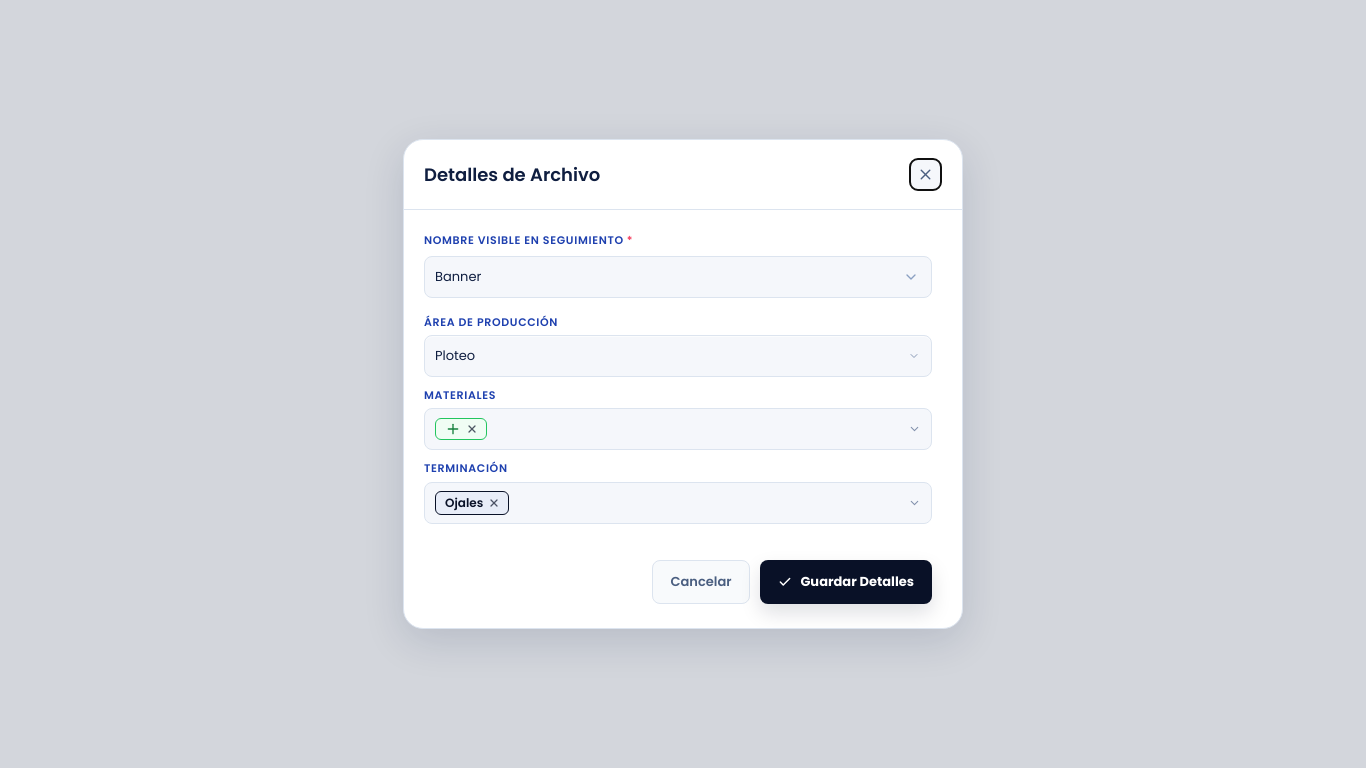
Test case: ProductionFileDetailsModal › rejects material entries that contain only whitespace
Click the button "Guardar Detalles": (846, 582) [760,560,932,604]
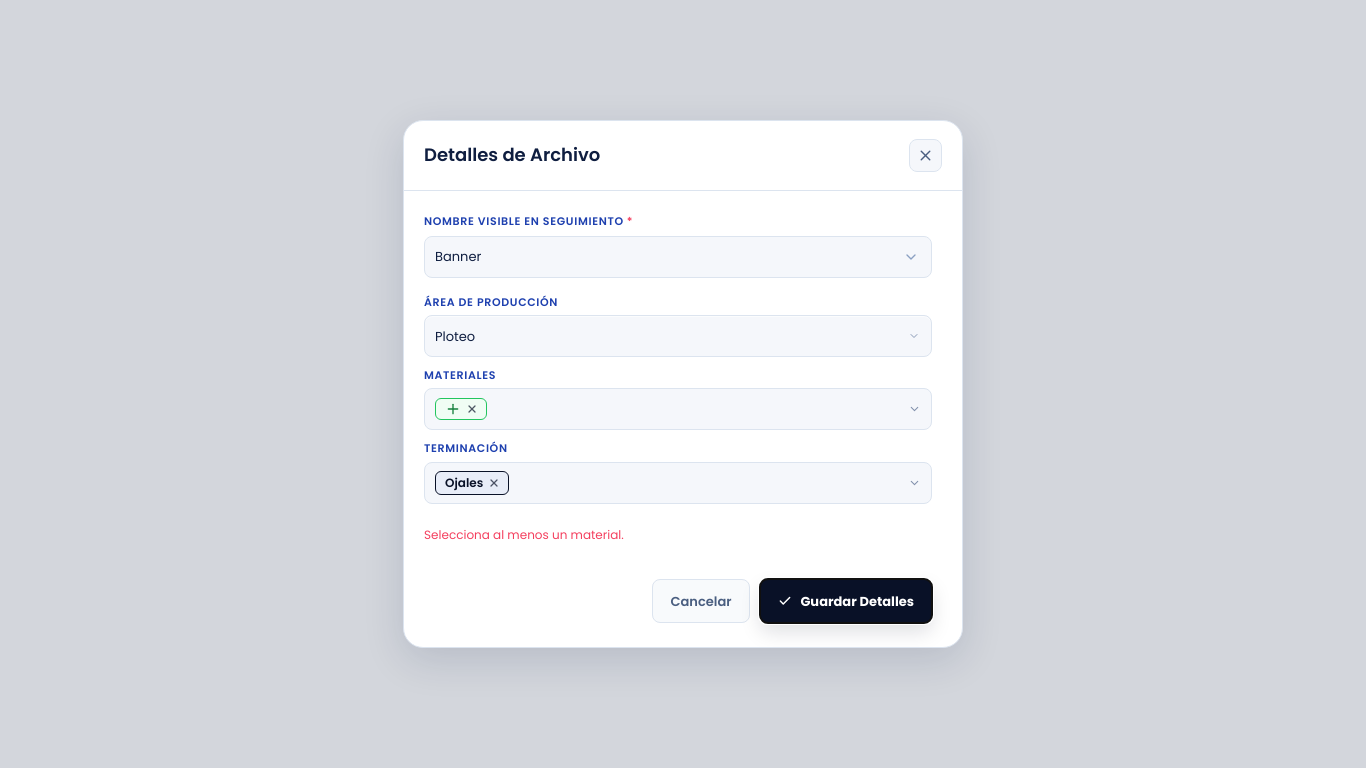
Result: the text "Selecciona al menos un material." is shown at [424,526,624,543]
